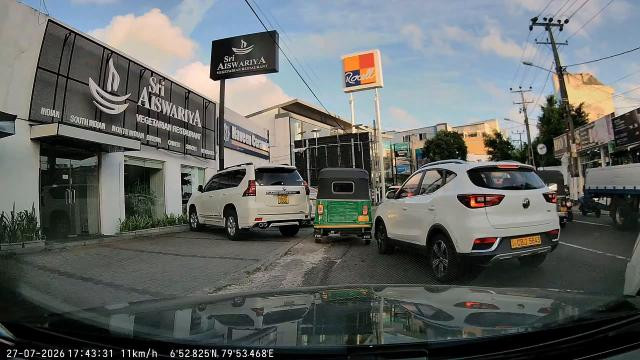illegal overtaking: (311, 154, 381, 257)
number plate: (503, 230, 545, 255)
